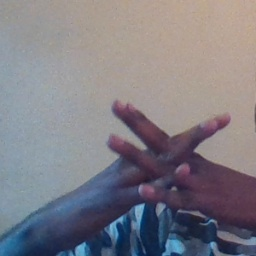W: (87, 89, 238, 232)
